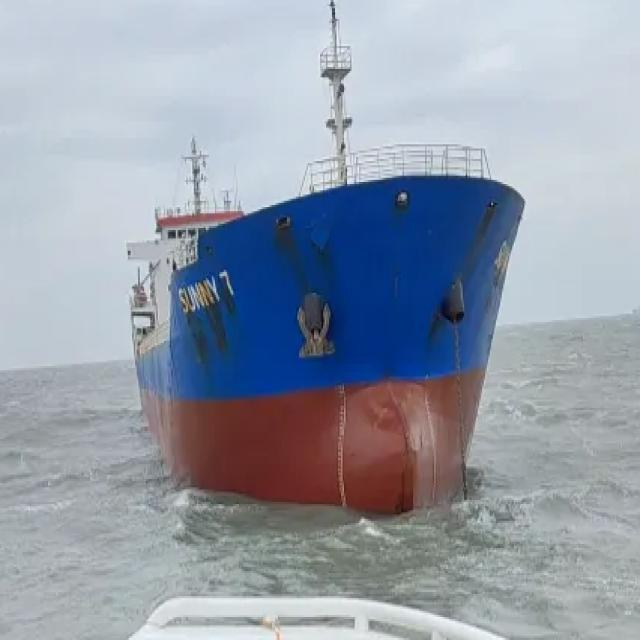cargoship: (131, 0, 527, 527)
